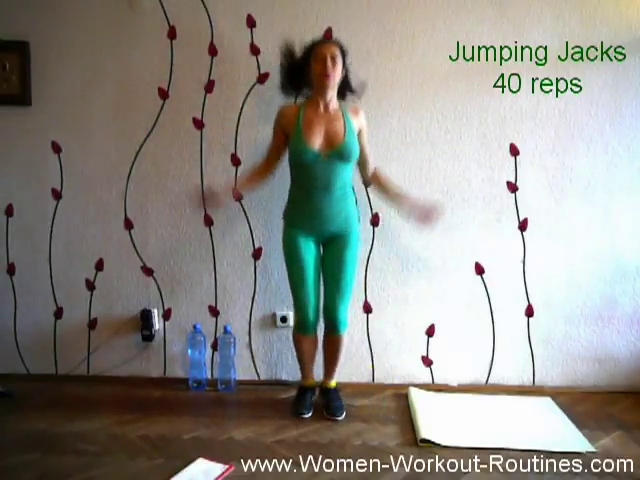person: (196, 39, 444, 420)
